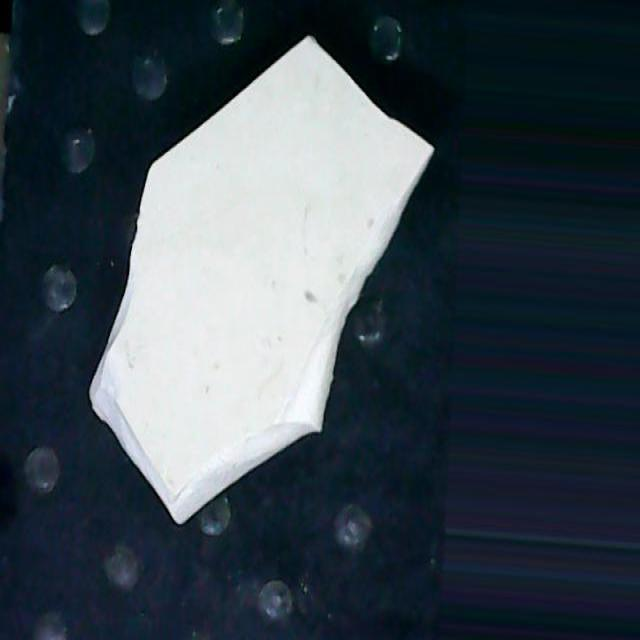-Other waste - ceramic-: (90, 33, 436, 531)
